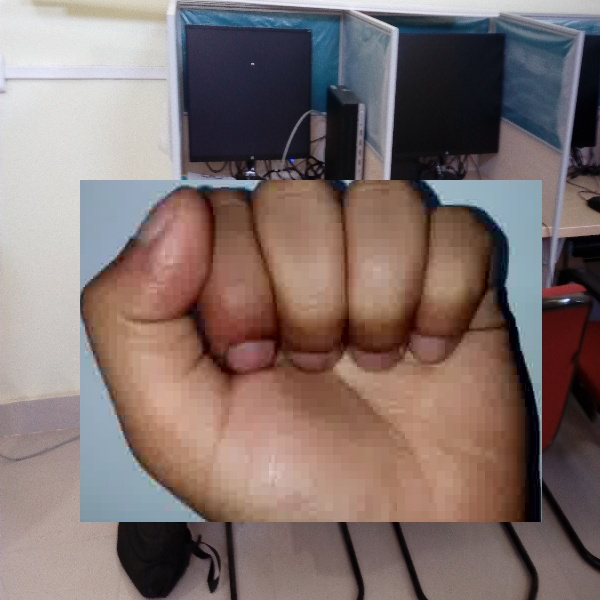A: (80, 180, 542, 522)
